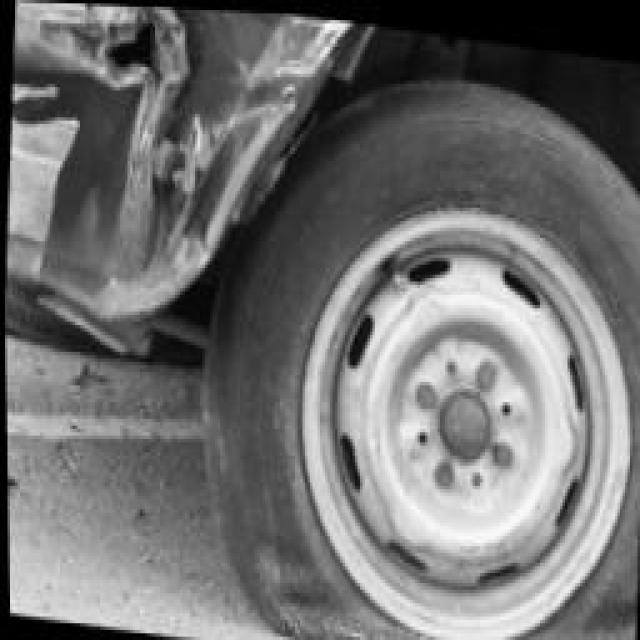Bumper: (0, 0, 344, 332)
